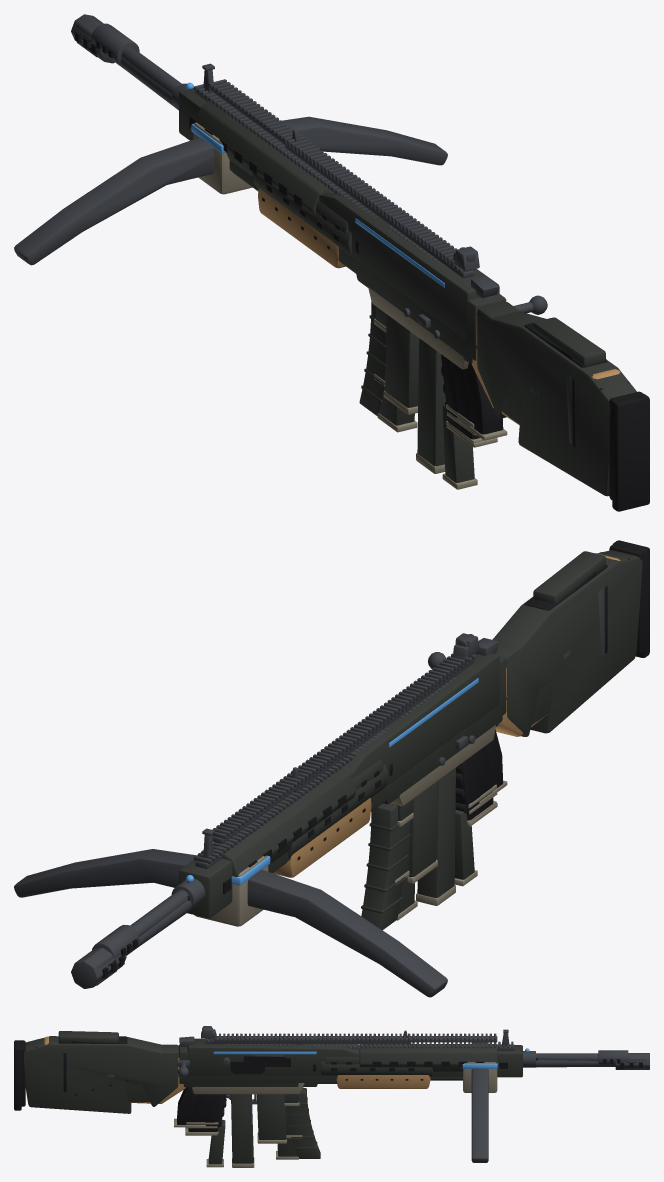
The model's file is armes.glb.
The picture shows the model from 3 angles, top to bottom: view 1: azimuth 30°, elevation 25°; view 2: azimuth 150°, elevation 25°; view 3: azimuth 270°, elevation 25°; orthographic projection. The views are drawn at different scales.
Visible parts, largest first — view 1: arme_ar, arme_sniper, arme_pickaxe, arme_tactique, arme_dmr, arme_smg, arme_carabine, arme_shotgun, arme_compacte; view 2: arme_ar, arme_sniper, arme_pickaxe, arme_dmr, arme_tactique, arme_smg, arme_shotgun, arme_carabine, arme_compacte; view 3: arme_ar, arme_sniper, arme_dmr, arme_tactique, arme_smg, arme_shotgun, arme_pickaxe, arme_carabine, arme_compacte.
Boxes of the visible parts, box(x1,y1,x2,y2) form: arme_ar: box(91, 23, 572, 447); arme_sniper: box(71, 14, 649, 511); arme_pickaxe: box(14, 116, 538, 395); arme_tactique: box(252, 172, 477, 435); arme_dmr: box(76, 24, 643, 499); arme_smg: box(355, 226, 575, 473); arme_carabine: box(284, 129, 483, 443); arme_shotgun: box(171, 82, 629, 424); arme_compacte: box(442, 355, 477, 489); arme_ar: box(92, 571, 596, 958); arme_sniper: box(71, 540, 649, 988); arme_pickaxe: box(14, 650, 570, 997); arme_dmr: box(96, 543, 644, 985); arme_tactique: box(288, 643, 512, 883); arme_smg: box(389, 585, 607, 905); arme_shotgun: box(171, 552, 629, 907); arme_carabine: box(292, 644, 496, 920); arme_compacte: box(454, 754, 480, 886); arme_ar: box(72, 1026, 628, 1158); arme_sniper: box(14, 1031, 649, 1113); arme_dmr: box(20, 1036, 647, 1138); arme_tactique: box(178, 1054, 432, 1143); arme_smg: box(63, 1044, 316, 1167); arme_shotgun: box(35, 1036, 537, 1103); arme_pickaxe: box(106, 1042, 497, 1162); arme_carabine: box(186, 1029, 411, 1159); arme_compacte: box(205, 1094, 225, 1167).
Bounding box in the file's own units: 0.6552 × 0.352 × 1.48.
